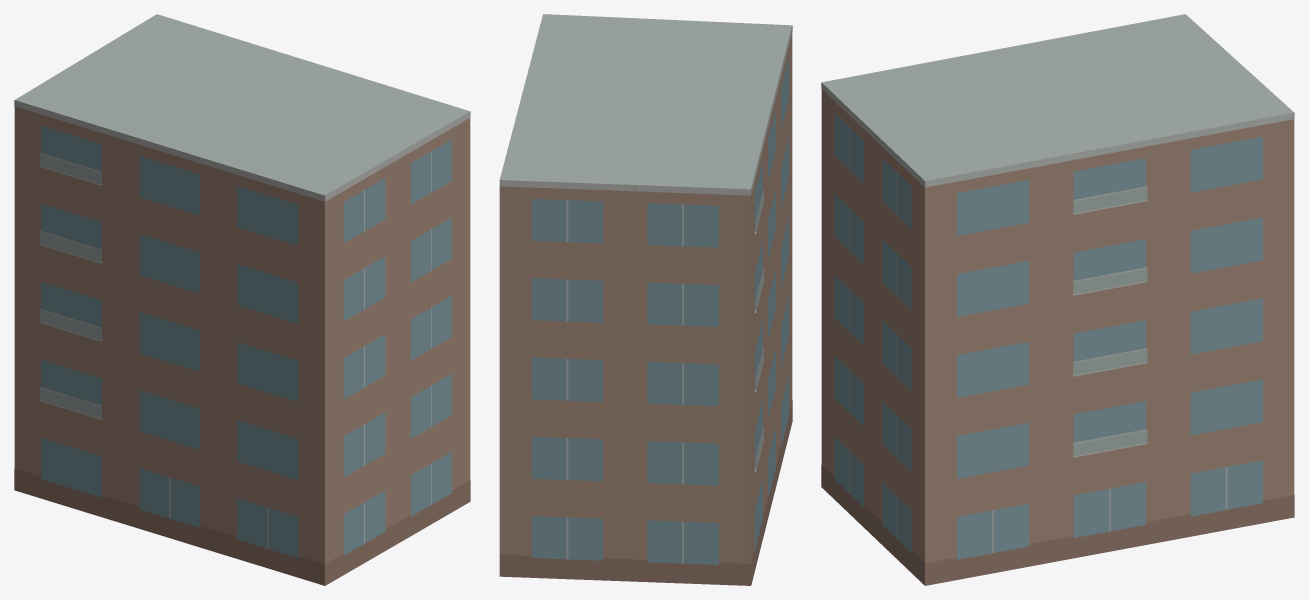
File: residential-cc43d67f-22ee-44fd-87d4-487b0e6aa452.glb
The picture shows the model from 3 angles, left to right: view 1: azimuth 30°, elevation 25°; view 2: azimuth 150°, elevation 25°; view 3: azimuth 270°, elevation 25°; orthographic projection. The views are drawn at different scales.
Visible parts, largest first — view 1: residential-cc43d67f-22ee-44fd-87d4-487b0e6aa452.tmp; view 2: residential-cc43d67f-22ee-44fd-87d4-487b0e6aa452.tmp; view 3: residential-cc43d67f-22ee-44fd-87d4-487b0e6aa452.tmp.
Boxes of the visible parts, x1,y1,x2,y2 form: residential-cc43d67f-22ee-44fd-87d4-487b0e6aa452.tmp: (14, 14, 470, 585); residential-cc43d67f-22ee-44fd-87d4-487b0e6aa452.tmp: (499, 14, 792, 585); residential-cc43d67f-22ee-44fd-87d4-487b0e6aa452.tmp: (821, 14, 1294, 585).
Size of the model in its own units: 13.52 by 15.25 by 16.16.
